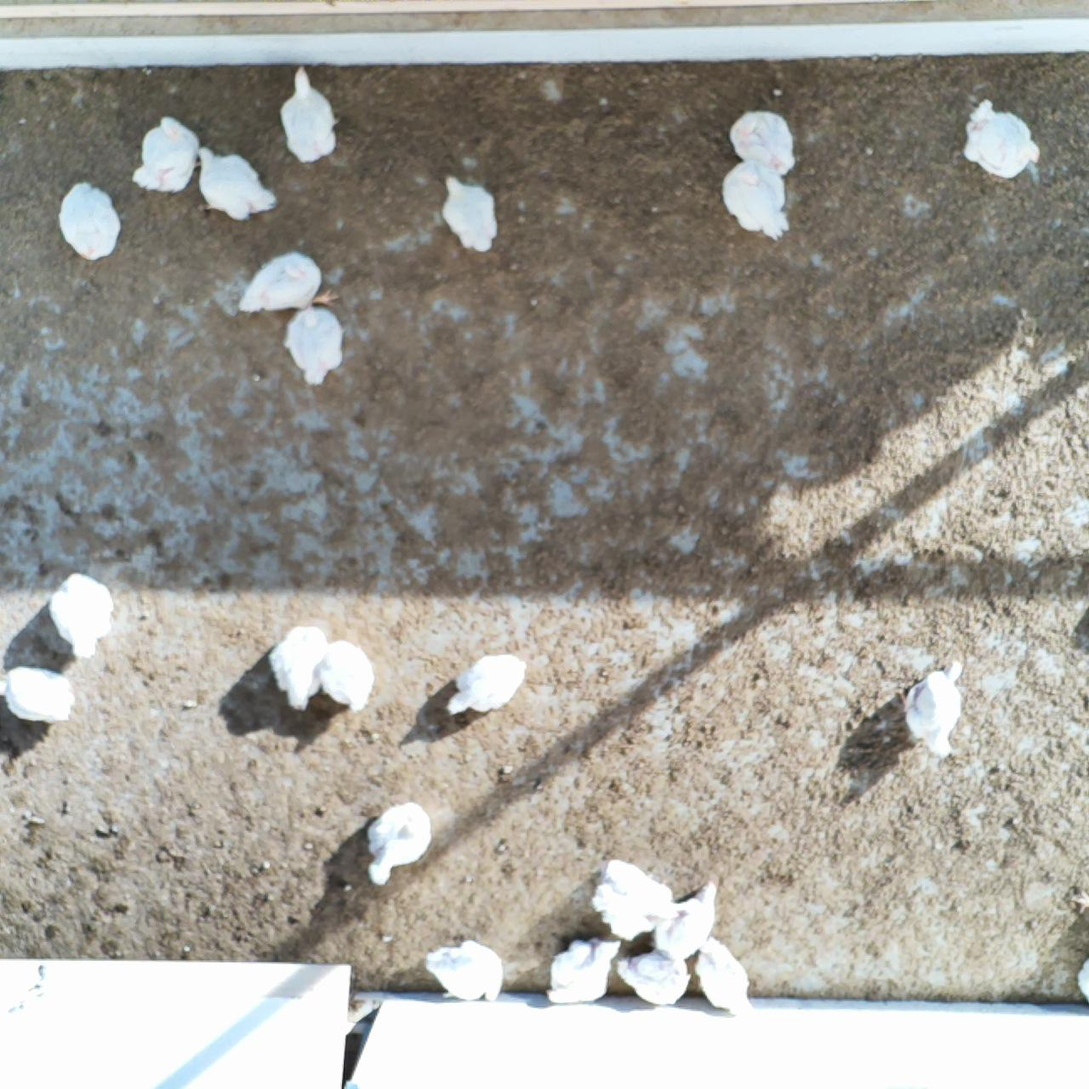chicken: (897, 653, 966, 760), (963, 96, 1043, 185), (598, 858, 679, 941), (359, 798, 433, 886), (239, 249, 337, 315), (195, 144, 278, 221), (686, 931, 758, 1019), (441, 651, 530, 721), (273, 620, 337, 717), (279, 64, 341, 163), (720, 157, 790, 243), (48, 570, 115, 657), (655, 879, 724, 960), (281, 302, 344, 390), (545, 935, 622, 1007), (57, 180, 124, 262), (613, 942, 692, 1011), (423, 937, 505, 1003), (135, 114, 201, 195), (444, 172, 502, 258), (725, 107, 799, 174), (0, 666, 77, 728), (319, 634, 376, 716), (1069, 951, 1089, 1006)
